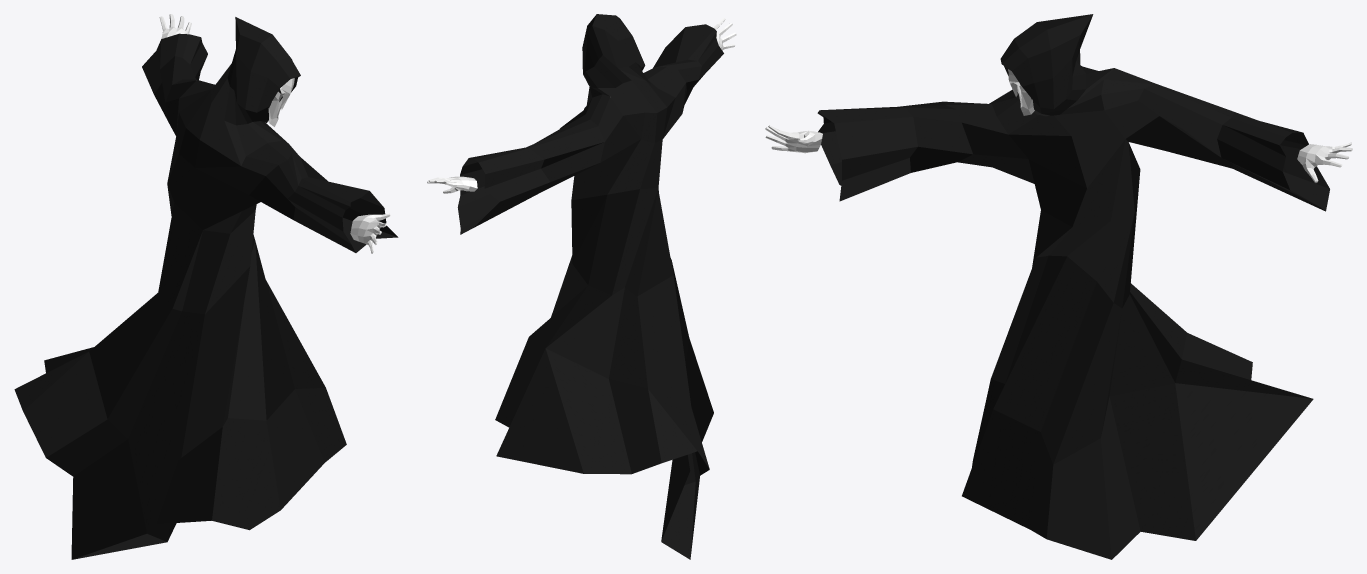
The model's file is ReaperAttack(31).obj.
The picture shows the model from 3 angles, left to right: view 1: azimuth 30°, elevation 25°; view 2: azimuth 150°, elevation 25°; view 3: azimuth 270°, elevation 25°; orthographic projection. The views are drawn at different scales.
Visible parts, largest first — view 1: Plane003; view 2: Plane003; view 3: Plane003.
Part boxes in pixels (x1,y1,x2,y2): Plane003: [14, 14, 398, 559]; Plane003: [427, 14, 736, 559]; Plane003: [765, 14, 1352, 559].
Bounding box in the file's own units: 119 × 230 × 210.
